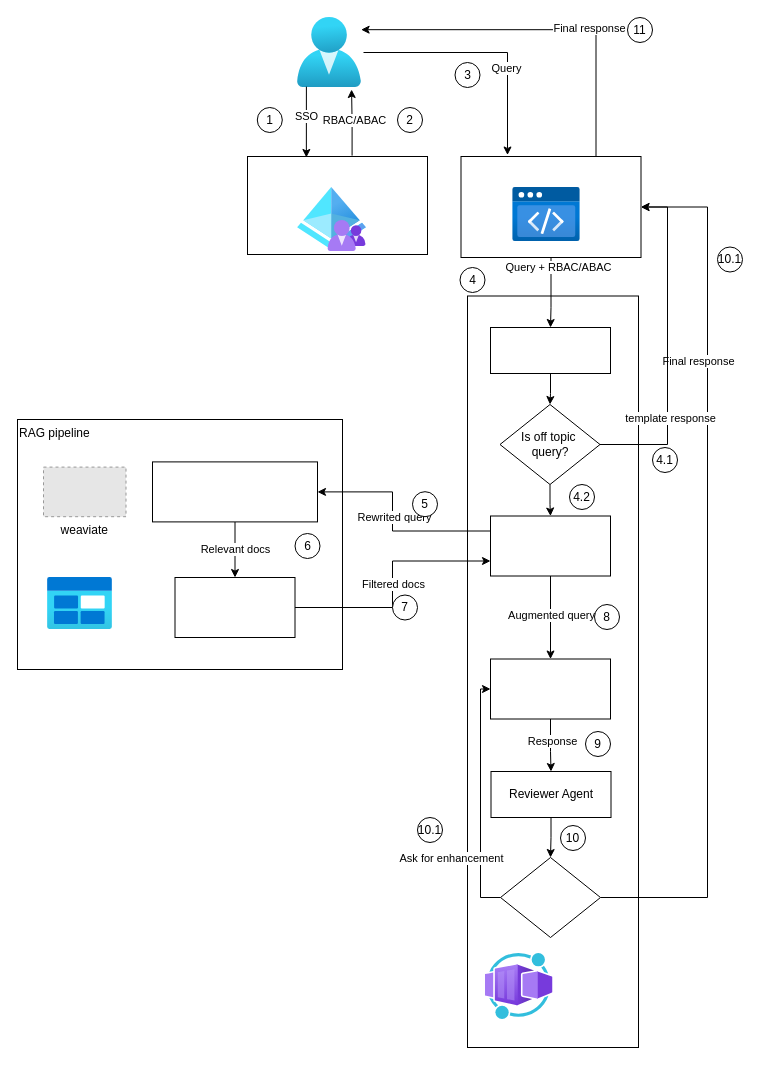
Image size: 760x1065. Some labels were removed from this diagram. Grey dashed boxes stand in for pictures. The box of each missing label's shape, as (x1, y1, x2, y2) in pixels:
Active Directory: (246, 156, 428, 254)
Blob Storage: (47, 577, 112, 629)
Container Web App: (466, 295, 638, 1048)
FGA Retriever: (174, 576, 295, 638)
Front Agent: (490, 326, 610, 374)
Is a relevant answer?: (500, 856, 600, 938)
Retirever Agent: (490, 515, 610, 576)
Specialist Agent: (490, 658, 610, 719)
Static Web App: (460, 156, 641, 258)
Vector Store Retriever: (152, 461, 318, 522)
